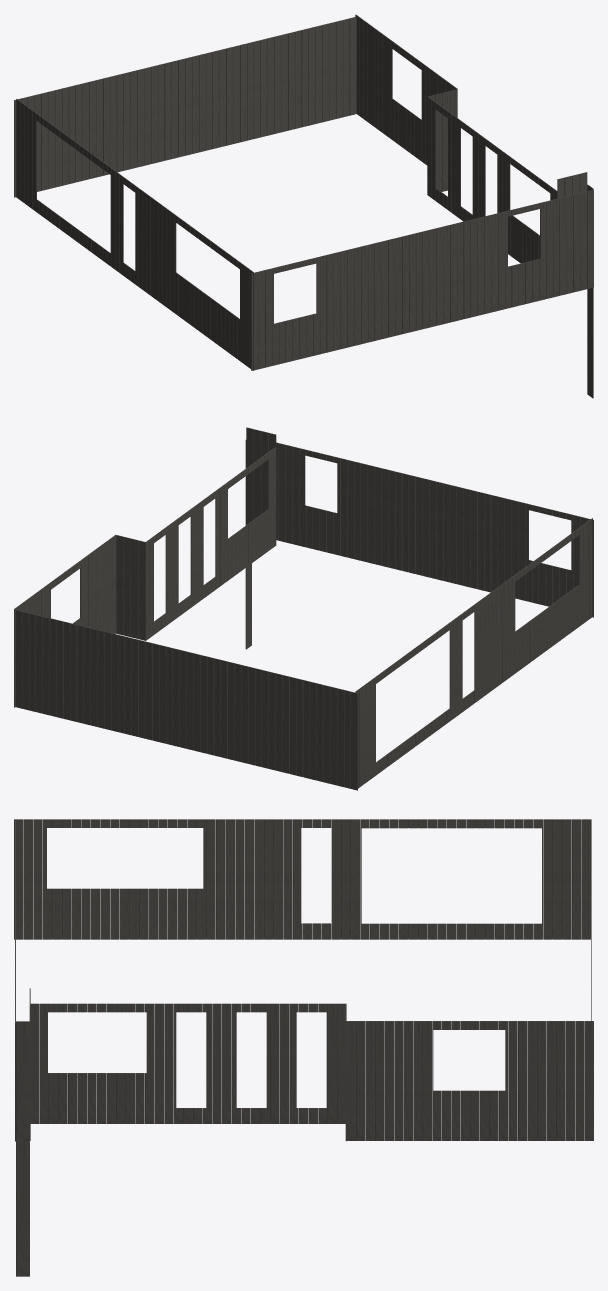
File: OG_Fassade.gltf
3 renders of one model, top to bottom at view 1: azimuth 30°, elevation 25°; view 2: azimuth 150°, elevation 25°; view 3: azimuth 270°, elevation 25°, orthographic. The views are drawn at different scales.
Visible parts, largest first — view 1: holzfassade.016, holzfassade.025, holzfassade.029, holzfassade.019, holzfassade.017, holzfassade.018, holzfassade.024, holzfassade.022; view 2: holzfassade.016, holzfassade.025, holzfassade.029, holzfassade.019, holzfassade.017, holzfassade.018, holzfassade.022, holzfassade.024; view 3: holzfassade.029, holzfassade.017, holzfassade.019, holzfassade.024, holzfassade.023.
Part boxes in pixels (left/top/right/bottom): holzfassade.016: left=14, top=17, right=356, bottom=197; holzfassade.025: left=251, top=190, right=593, bottom=370; holzfassade.029: left=16, top=99, right=253, bottom=370; holzfassade.019: left=427, top=96, right=558, bottom=263; holzfassade.017: left=355, top=14, right=457, bottom=165; holzfassade.018: left=428, top=89, right=457, bottom=191; holzfassade.024: left=587, top=287, right=593, bottom=398; holzfassade.022: left=557, top=172, right=587, bottom=198; holzfassade.016: left=15, top=610, right=357, bottom=790; holzfassade.025: left=276, top=442, right=593, bottom=617; holzfassade.029: left=355, top=518, right=592, bottom=788; holzfassade.019: left=145, top=447, right=275, bottom=640; holzfassade.017: left=14, top=534, right=116, bottom=707; holzfassade.018: left=116, top=535, right=146, bottom=640; holzfassade.022: left=246, top=427, right=276, bottom=545; holzfassade.024: left=245, top=563, right=251, bottom=649; holzfassade.029: left=14, top=819, right=590, bottom=939; holzfassade.017: left=346, top=1021, right=593, bottom=1140; holzfassade.019: left=30, top=1003, right=345, bottom=1123; holzfassade.024: left=16, top=1141, right=29, bottom=1276; holzfassade.023: left=16, top=1021, right=29, bottom=1141.
Bounding box in the file's own units: 10.02 × 6.2 × 12.06.
Materials: 2 (2 with a texture image).
